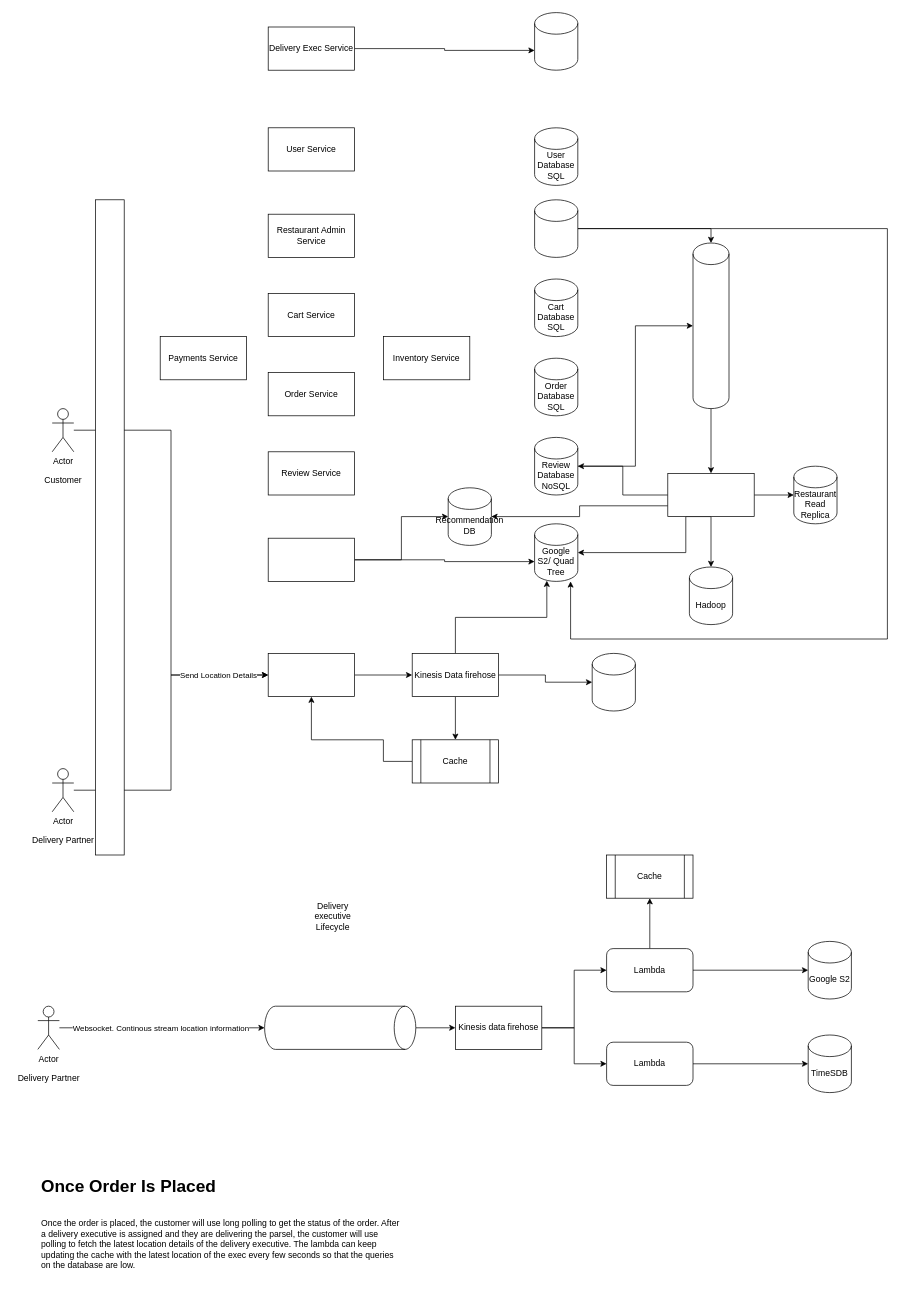
Image size: 906x1300. Some labels were removed from this diagram. Here are the shapes that lost their labels. From the top down, the centre of each, then its label:
point (556, 41): Delivery Exec Database SQL
point (556, 228): Restaurant Database SQL
point (710, 325): Queue
point (710, 495): Recommendation Engine
point (109, 527): API Gateway
point (311, 559): Restaurant Recommendation Service
point (311, 675): Delivery Service
point (613, 682): Time Series Database OpenTSDB
point (340, 1027): MQ
